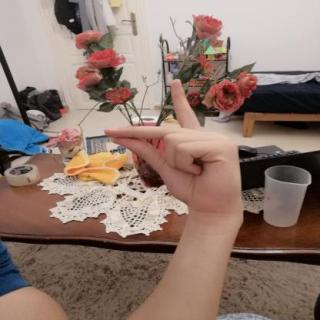TAA: (97, 74, 251, 221)
